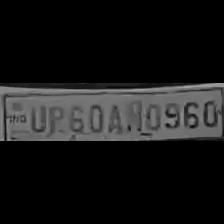0: (85, 100, 105, 134), (141, 98, 159, 132), (201, 96, 219, 128)
6: (65, 102, 85, 134), (179, 97, 199, 128)
9: (163, 101, 179, 131)
A: (107, 99, 127, 134)
P: (46, 102, 64, 134)
U: (26, 103, 48, 133)
